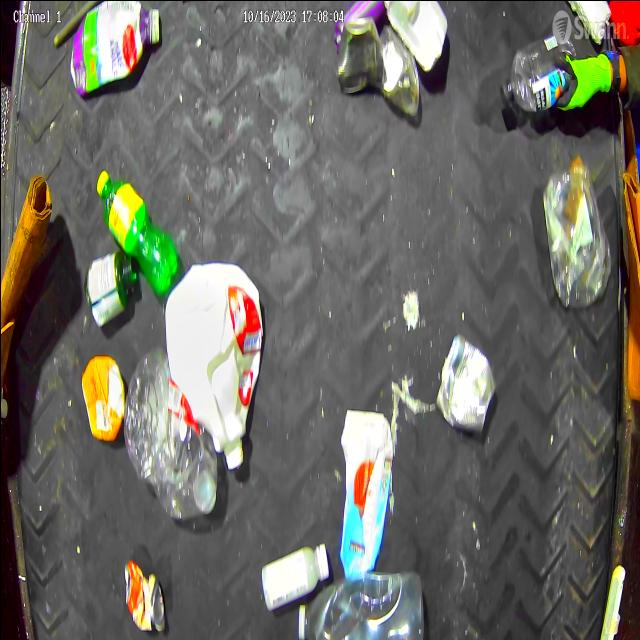can: (438, 332, 494, 432), (331, 16, 383, 87), (118, 559, 168, 631)
milk_jug: (164, 254, 258, 468)
non_white_jug: (67, 1, 160, 92)
plastic_bottle: (123, 350, 217, 510), (292, 574, 427, 640), (502, 26, 572, 118)
